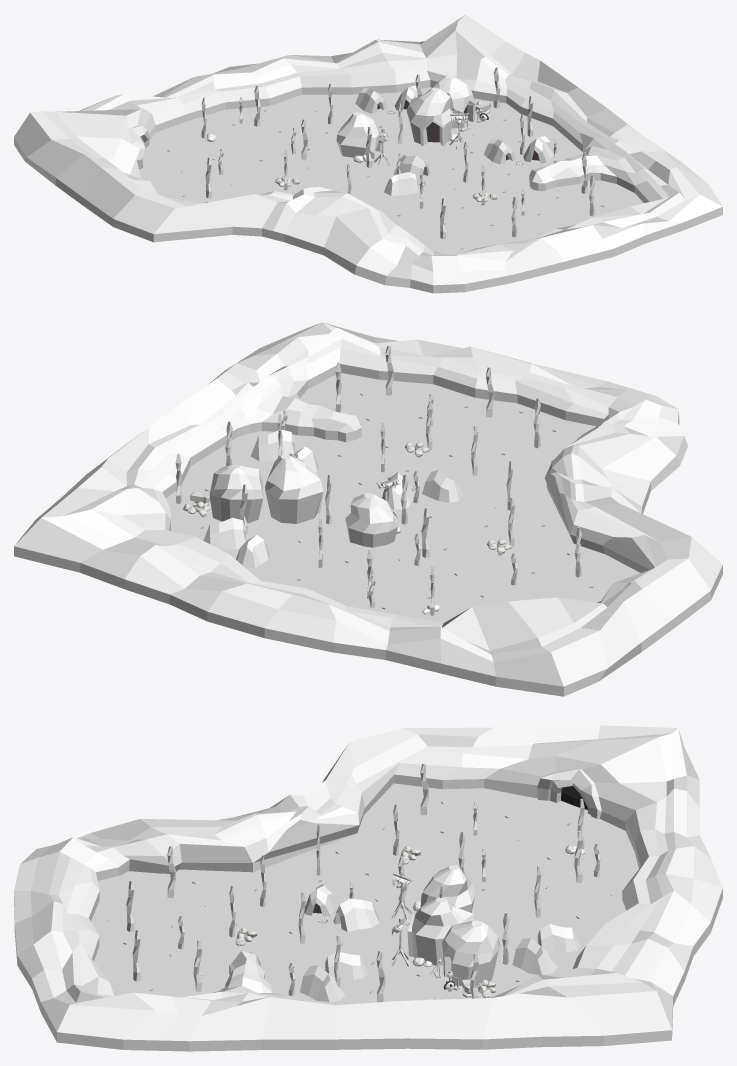
The model's file is ShamanVillage.fbx.
3 renders of one model, top to bottom at view 1: azimuth 30°, elevation 25°; view 2: azimuth 150°, elevation 25°; view 3: azimuth 270°, elevation 25°, orthographic. The views are drawn at different scales.
Parts seen in each view (by area): view 1: Props, Plane; view 2: Props, Plane; view 3: Props, Plane.
Boxes of the visible parts, box(x1,y1,x2,y2) form: Props: box(14, 14, 722, 293); Plane: box(139, 87, 643, 254); Props: box(14, 322, 722, 696); Plane: box(165, 373, 640, 622); Props: box(14, 725, 722, 1051); Plane: box(91, 783, 638, 1004).
Size of the model in its own units: 10503 by 1163 by 10508.
